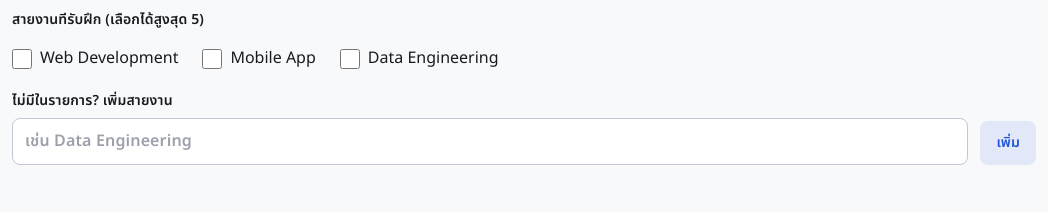
Test: TagPicker › rejects a name that is too short
This screenshot has width=1048, height=212.
Type "x" into the field labelled "ไม่มีในรายการ? เพิ่มสายงาน". click: [490, 141]
box: [12,118,968,165]
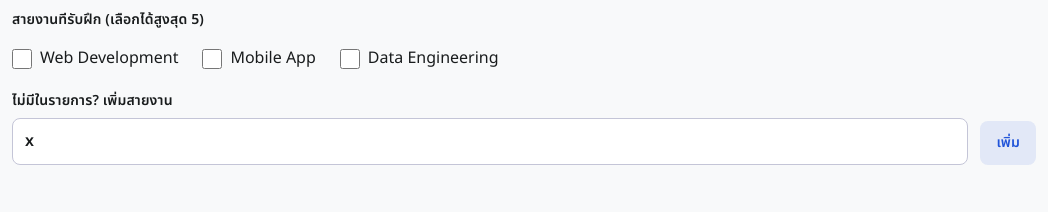
Click the button "เพิ่ม". click: [1008, 143]
box: [980,121,1036,165]
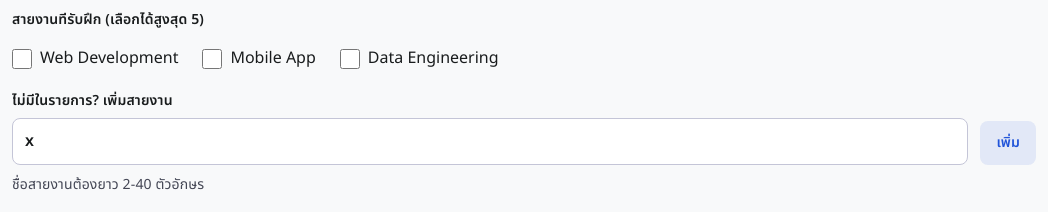
Check: the text "ชื่อสายงานต้องยาว 2-40 ตัวอักษร" is shown, box [12,174,204,195]
